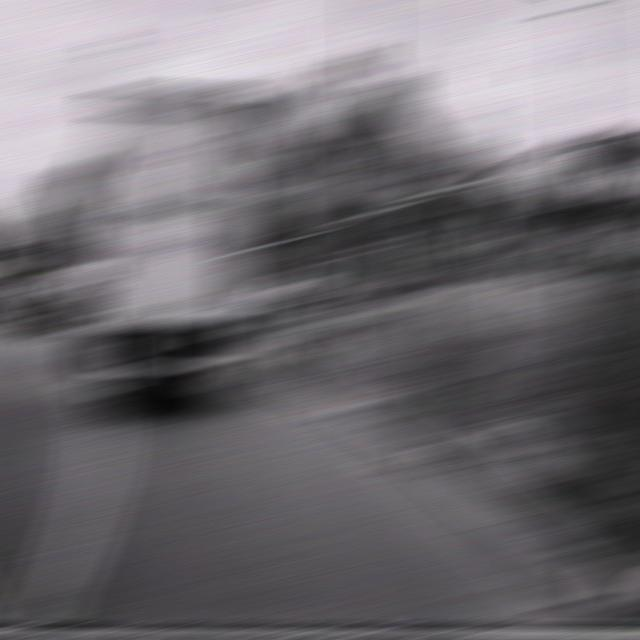stop: (261, 204, 303, 237)
